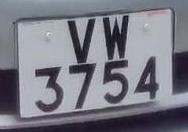3: (29, 61, 69, 117)
4: (129, 53, 167, 102)
5: (98, 59, 136, 107)
7: (65, 59, 101, 115)
V: (61, 12, 103, 66)
W: (98, 9, 136, 64)
